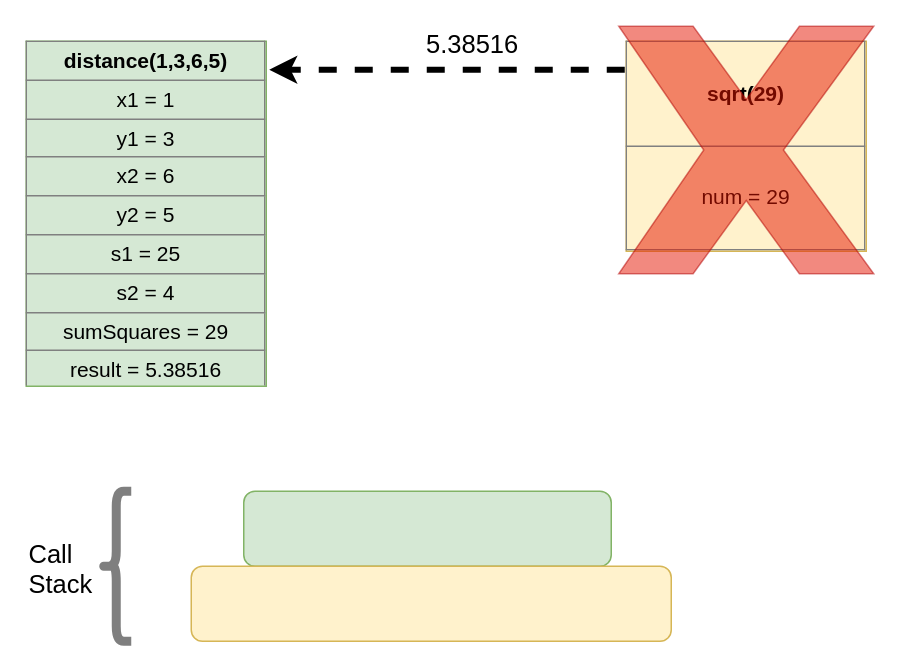
The diagram is 900 pixels wide and 672 high, and some of its shapes have lost their labels. The shapes that lost their labels are listed below. From the top down, each one's centre as x and y in pixels, then its label:
point (426, 528): distance(1,3,6,5)
point (430, 603): setup()
